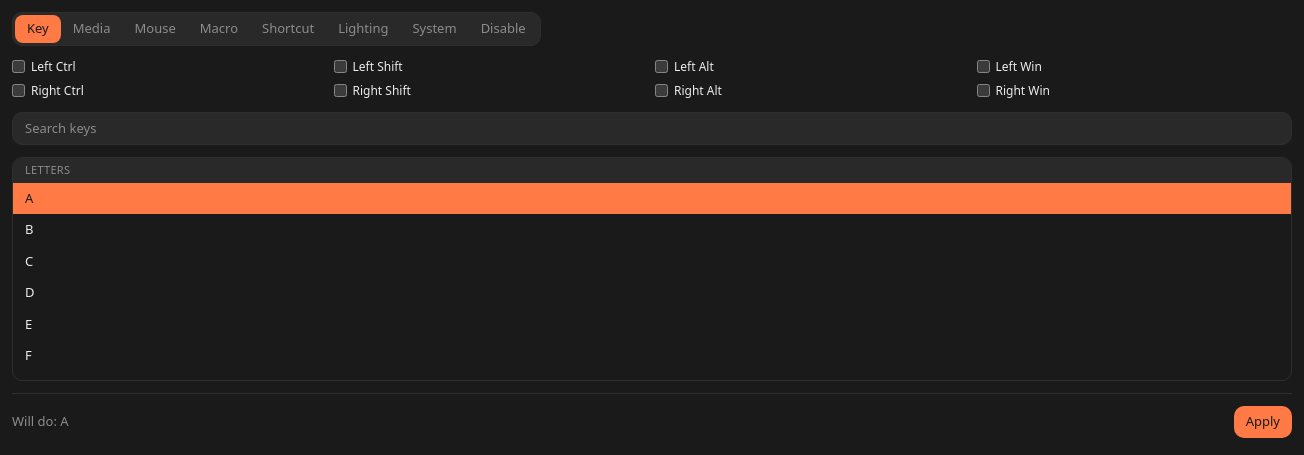
it: key list is grouped and empty groups hide while searching
Type "Enter" into the search field labelled "Search keys" at (652, 128), box [12,112,1292,145]
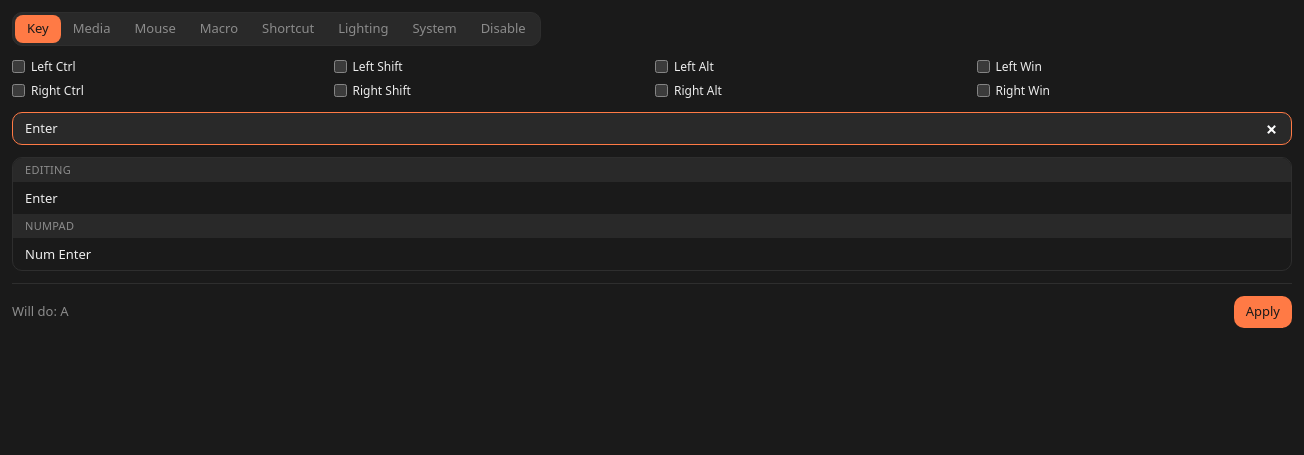
Result: the text "Letters" is gone
Result: the element "Editing" is shown at [13,158,1291,214]
